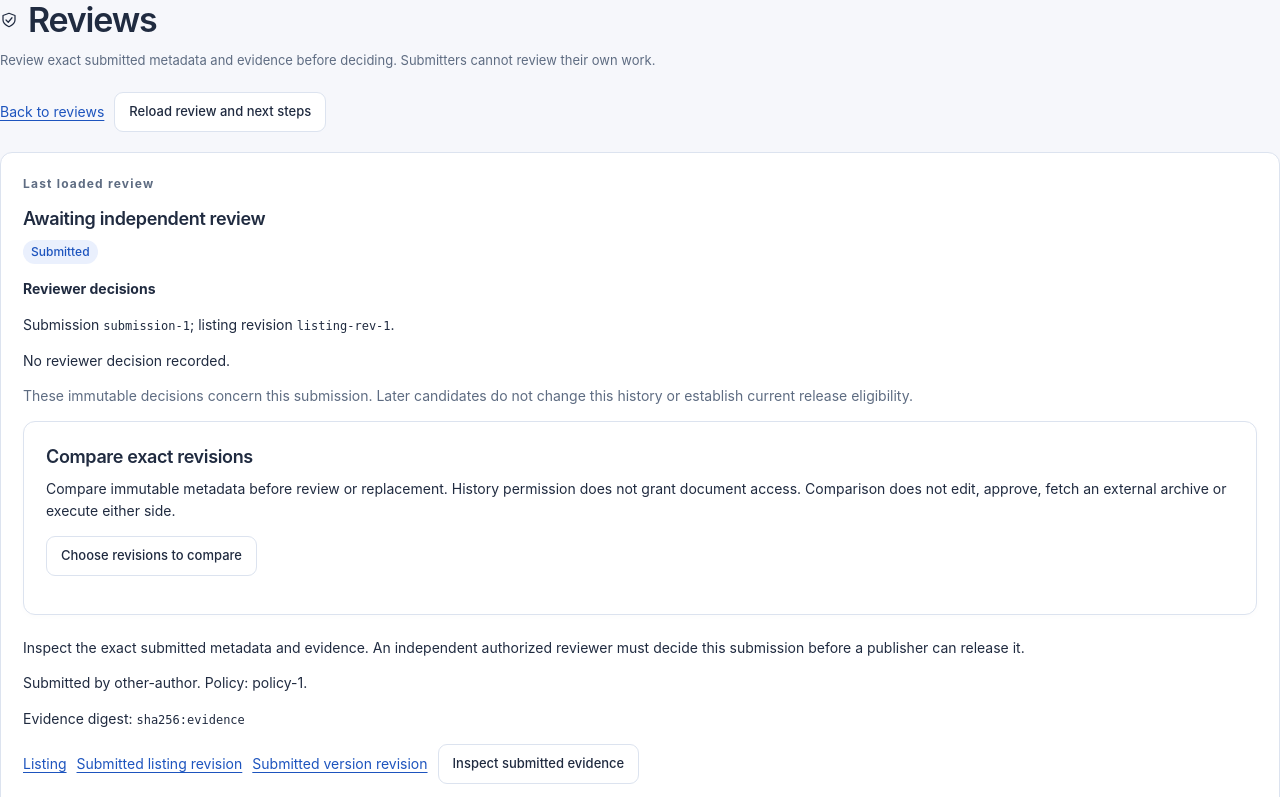
Test case: omits initial review mutation fields without editing authority for narrow reader
Click the button "Inspect submitted evidence": (538, 764) [438, 744, 639, 784]
(page scrolled)
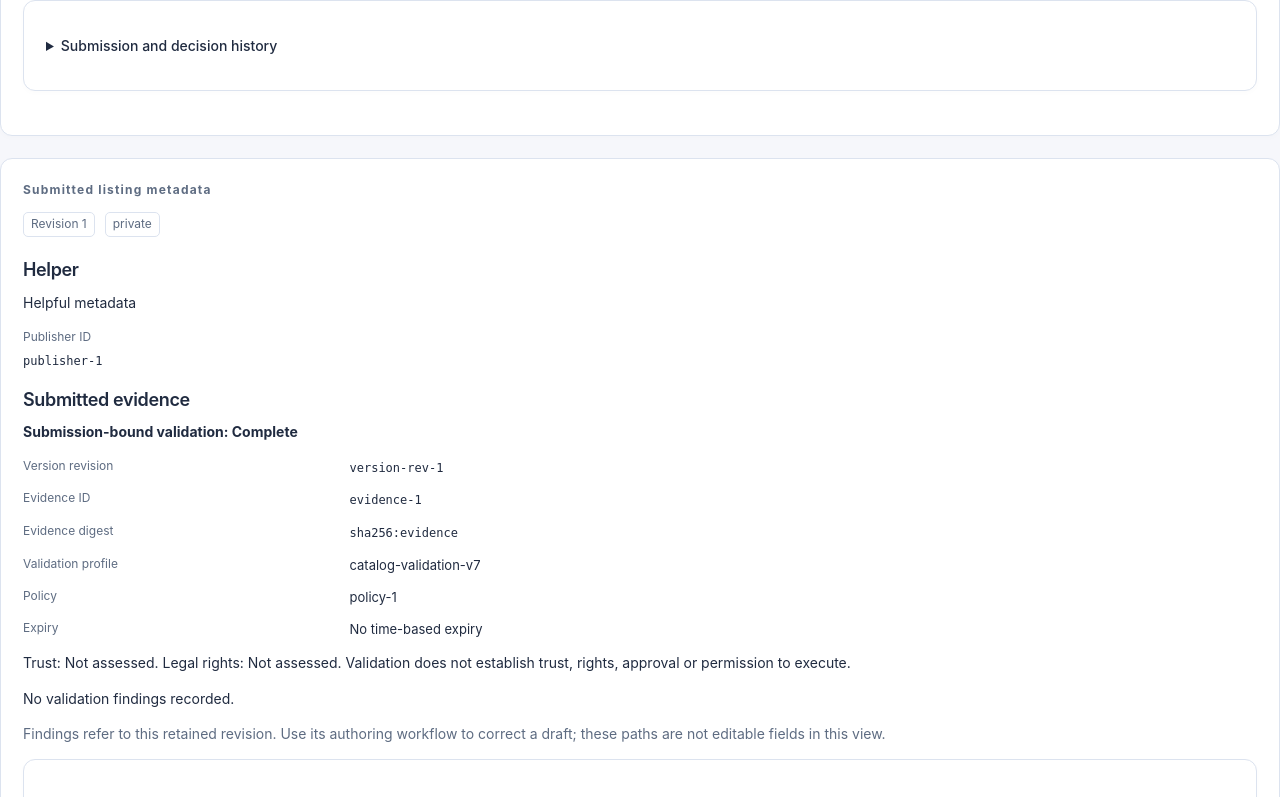
expect the heading "Submitted evidence" is shown: met, box [23, 389, 190, 410]
